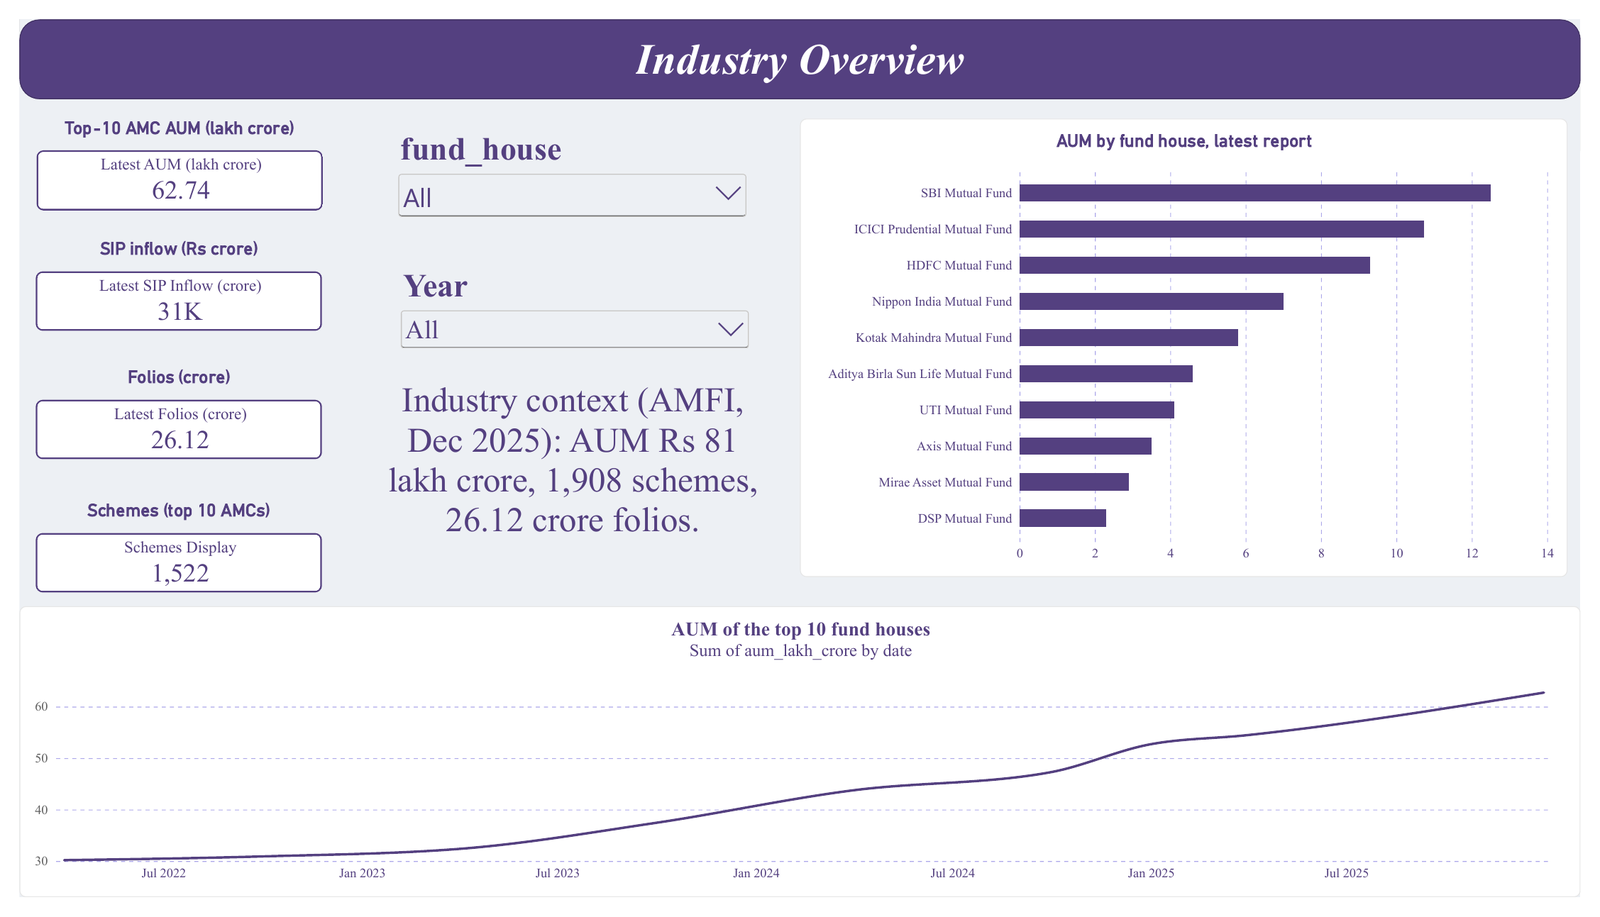

Layout of this report page (visuals, bound fields, positions):
{"tool":"powerbi","page":{"name":"Industry Overview","canvas":[1920,1080],"ordinal":0},"visuals":[{"type":"shape","title":"Industry Overview","box":[0,0,1920.4,97.7],"z":0},{"type":"slicer","fields":{"Values":["aum_by_fund_house.fund_house"]},"box":[461.1,135.8,438.4,113.2],"z":1},{"type":"slicer","fields":{"Values":["Calendar.Year"]},"box":[464,304,438,100],"z":2},{"type":"cardVisual","title":"Top-10 AMC AUM (lakh crore)","fields":{"Data":["aum_by_fund_house.Latest AUM (lakh crore)"]},"box":[20.6,121.4,352,113.2],"z":3},{"type":"cardVisual","title":"SIP inflow (Rs crore)","fields":{"Data":["monthly_sip_inflows.Latest SIP Inflow (crore)"]},"box":[20,270,352,113.2],"z":4},{"type":"cardVisual","title":"Folios (crore)","fields":{"Data":["industry_folio_count.Latest Folios (crore)"]},"box":[20,428,352,113.2],"z":5},{"type":"cardVisual","title":"Schemes (top 10 AMCs)","fields":{"Data":["aum_by_fund_house.Schemes Display"]},"box":[20,592,352,113.2],"z":6},{"type":"lineChart","title":"AUM of the top  10 fund houses","fields":{"Category":["aum_by_fund_house.date"],"Y":["Sum(aum_by_fund_house.aum_lakh_crore)"]},"box":[0,722,1920,358],"z":7},{"type":"clusteredBarChart","title":"AUM by fund house, latest  report","fields":{"Category":["aum_by_fund_house.fund_house"],"Y":["aum_by_fund_house.Latest AUM (lakh crore)"]},"box":[960,122,944,564],"z":8},{"type":"textbox","box":[436,444,490,262],"z":9}]}

Visuals, with their boxes in screenshot pixels (x1, y1, x2, y2), scaled from the page's 1920x1080 canvas onto the 1600x917 screenshot:
"Industry Overview" shape: (left=0, top=0, right=1599, bottom=83)
slicer - aum_by_fund_house.fund_house: (left=384, top=115, right=750, bottom=211)
slicer - Calendar.Year: (left=387, top=258, right=752, bottom=343)
"Top-10 AMC AUM (lakh crore)" cardVisual: (left=17, top=103, right=311, bottom=199)
"SIP inflow (Rs crore)" cardVisual: (left=17, top=229, right=310, bottom=325)
"Folios (crore)" cardVisual: (left=17, top=363, right=310, bottom=460)
"Schemes (top 10 AMCs)" cardVisual: (left=17, top=503, right=310, bottom=599)
"AUM of the top  10 fund houses" lineChart: (left=0, top=613, right=1599, bottom=916)
"AUM by fund house, latest  report" clusteredBarChart: (left=800, top=104, right=1587, bottom=582)
textbox: (left=363, top=377, right=772, bottom=599)
